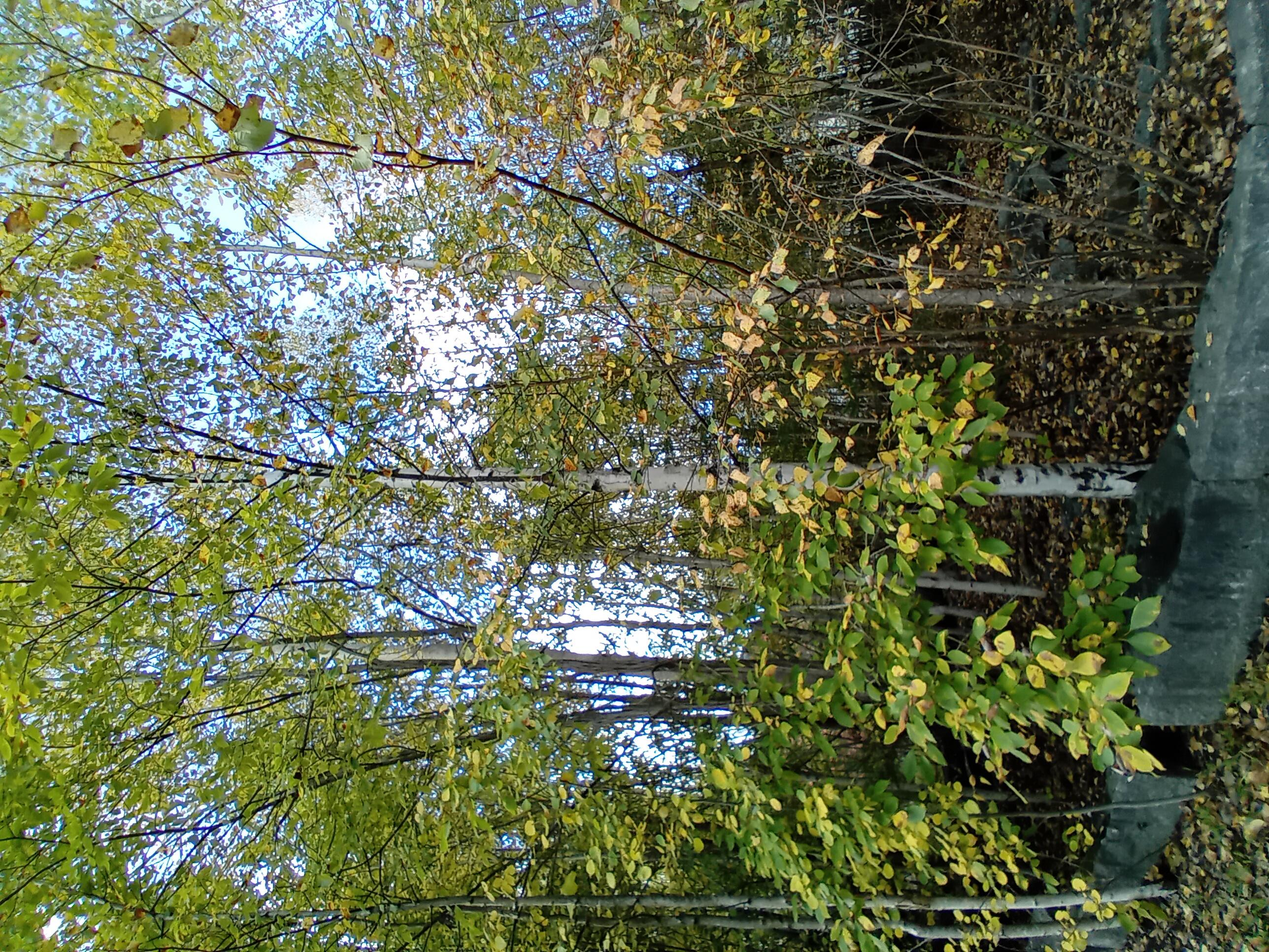Birch: (4, 1, 1266, 919), (336, 0, 875, 856)
